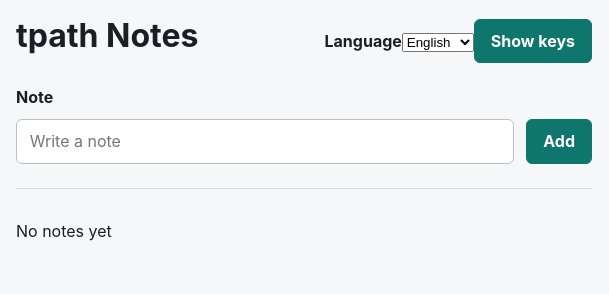
Scenario: react-simple example › renders translated UI and formats note interpolation
Expected: the heading "tpath Notes" is shown, [16,16,198,55]
Expected: the text "No notes yet" is shown, [16,221,112,241]
Type "Keep translations boring" into the field labelled "Note". click: (265, 141)
box: [16,119,514,164]
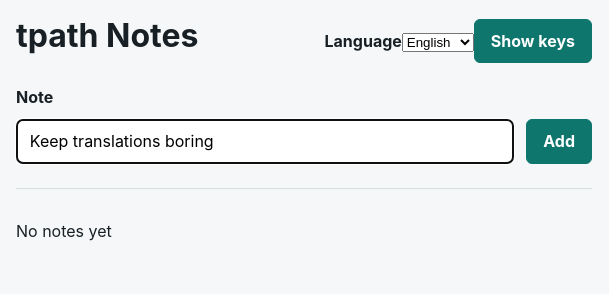
Click the button "Add". click: (559, 141)
box: [526,119,592,164]
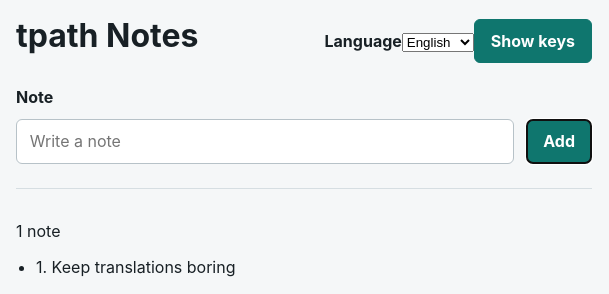
Now the list item "1. Keep translations boring" is shown, box [36,257,236,277]
Now the text "1 note" is shown, box [16,221,60,241]
